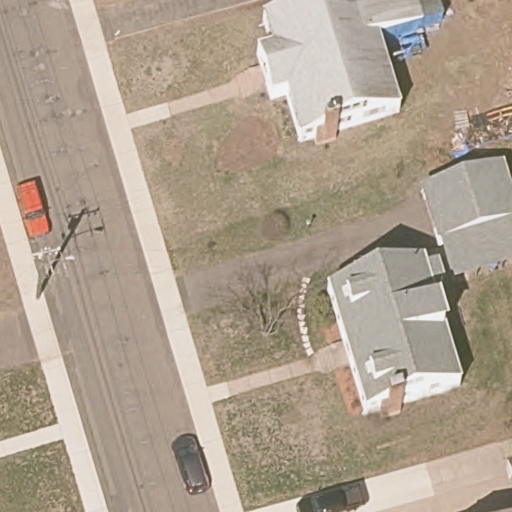DT: (32, 247, 76, 277)
